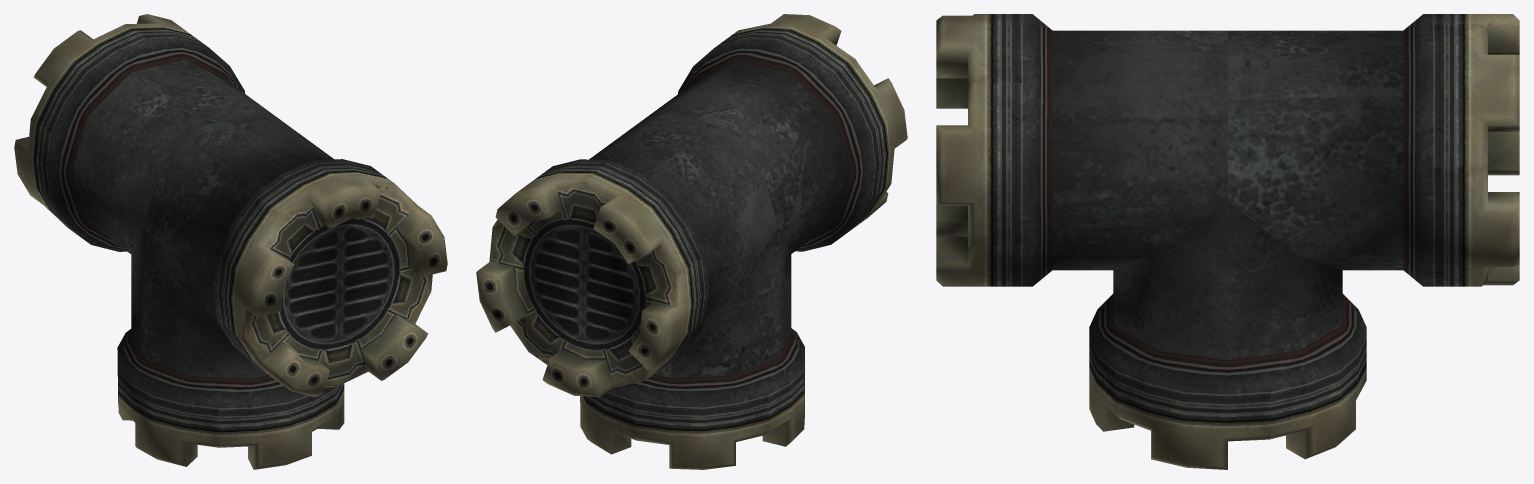
The model's file is tech_3way.dae.
3 views of the same model, side by side, from view 1: azimuth 30°, elevation 25°; view 2: azimuth 150°, elevation 25°; view 3: azimuth 270°, elevation 25° (orthographic). The views are drawn at different scales.
Parts seen in each view (by area): view 1: polySurface797; view 2: polySurface797; view 3: polySurface797.
Boxes of the visible parts, <box> form: polySurface797: <box>14,14,447,469</box>; polySurface797: <box>476,14,907,469</box>; polySurface797: <box>936,14,1519,469</box>.
Size of the model in its own units: 0.4984 by 0.7804 by 1.06.
Materials: 1 (1 with a texture image).
